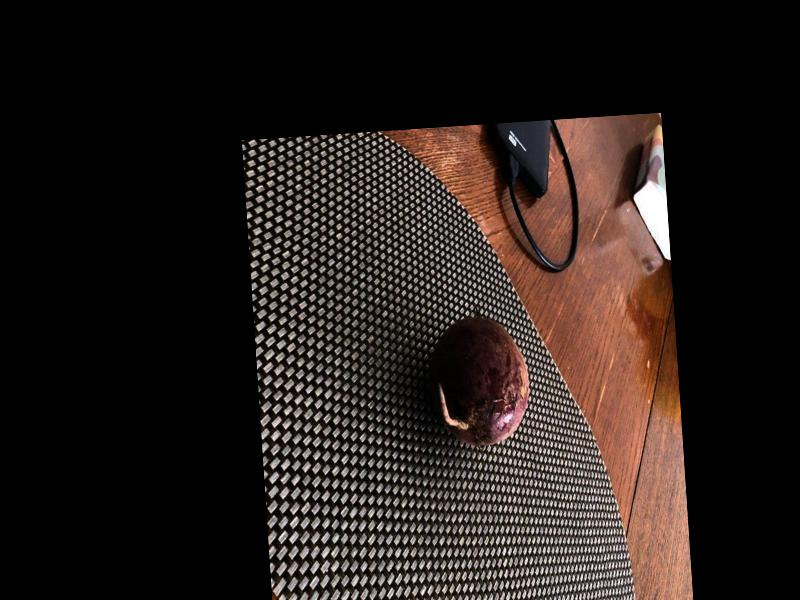Beet: (426, 313, 532, 448)
